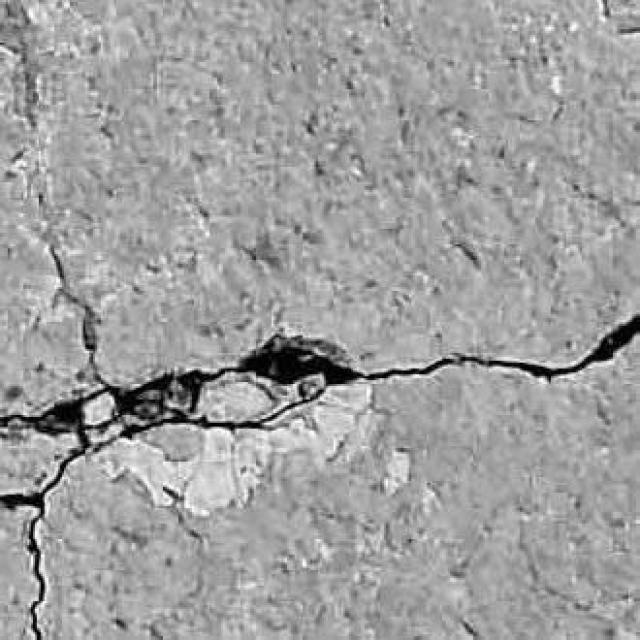crack: (0, 315, 639, 638), (0, 315, 639, 446), (2, 448, 85, 639), (47, 243, 104, 382), (0, 0, 38, 129)
